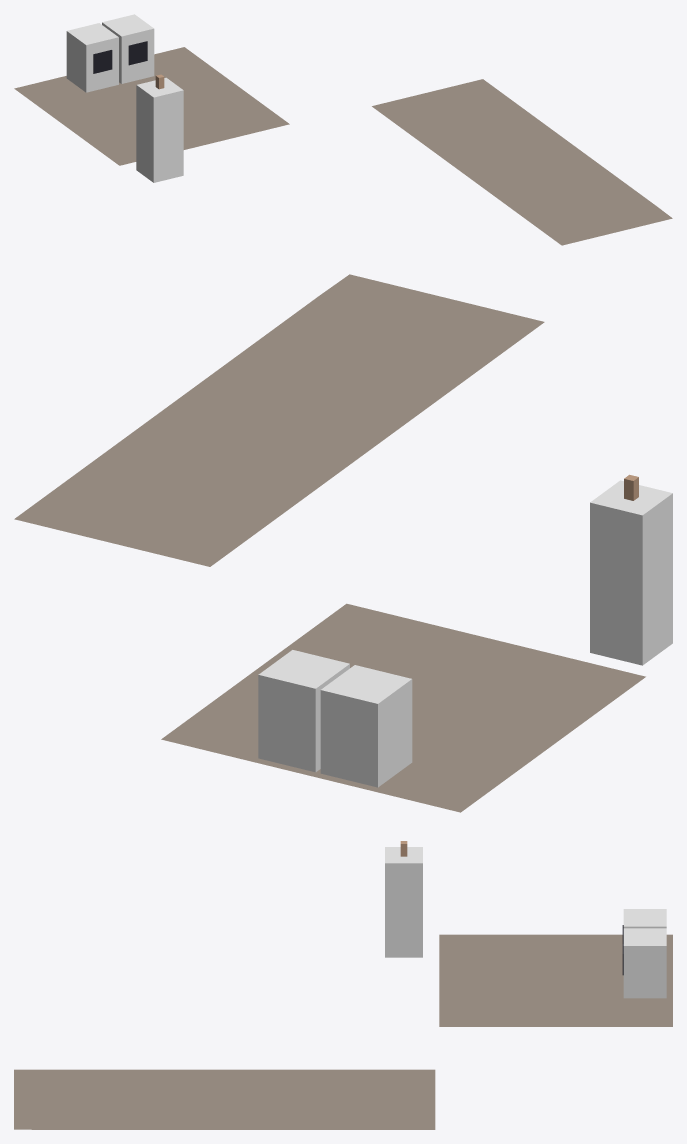
Rendered from fine-s0.glb.
3 views of the same model, one above another, from view 1: azimuth 30°, elevation 25°; view 2: azimuth 150°, elevation 25°; view 3: azimuth 270°, elevation 25° (orthographic). The views are drawn at different scales.
Visible parts, largest first — view 1: soft-s0, water-heater.000, washer.000, washer.001; view 2: soft-s0, water-heater.000, washer.000, washer.001; view 3: soft-s0, water-heater.000, washer.001, washer.000.
Boxes of the visible parts, x1,y1,x2,y2 form: soft-s0: [14, 47, 672, 245]; water-heater.000: [136, 74, 183, 182]; washer.000: [66, 23, 118, 92]; washer.001: [102, 14, 154, 83]; soft-s0: [14, 274, 645, 812]; water-heater.000: [590, 474, 672, 665]; washer.000: [320, 665, 412, 787]; washer.001: [258, 650, 349, 772]; soft-s0: [14, 934, 672, 1129]; water-heater.000: [385, 841, 422, 957]; washer.001: [622, 928, 666, 998]; washer.000: [622, 909, 666, 943].
Size of the model in its own units: 6.64 by 1.7 by 9.48.
